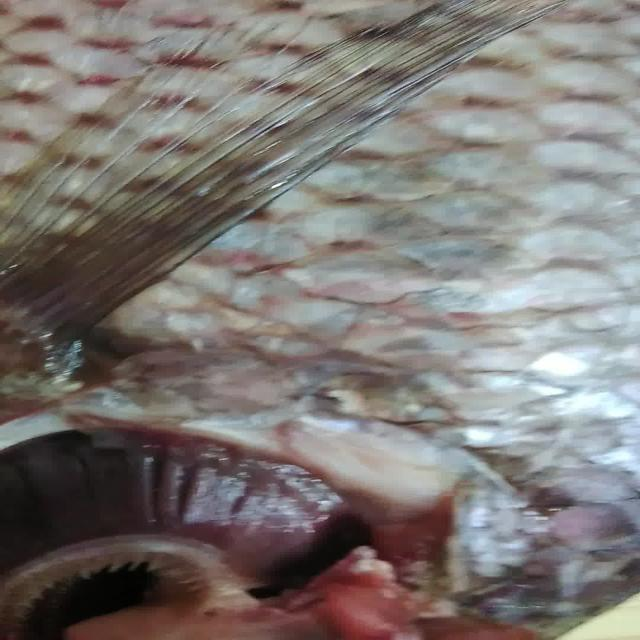Non-Fresh: (35, 418, 348, 624)
